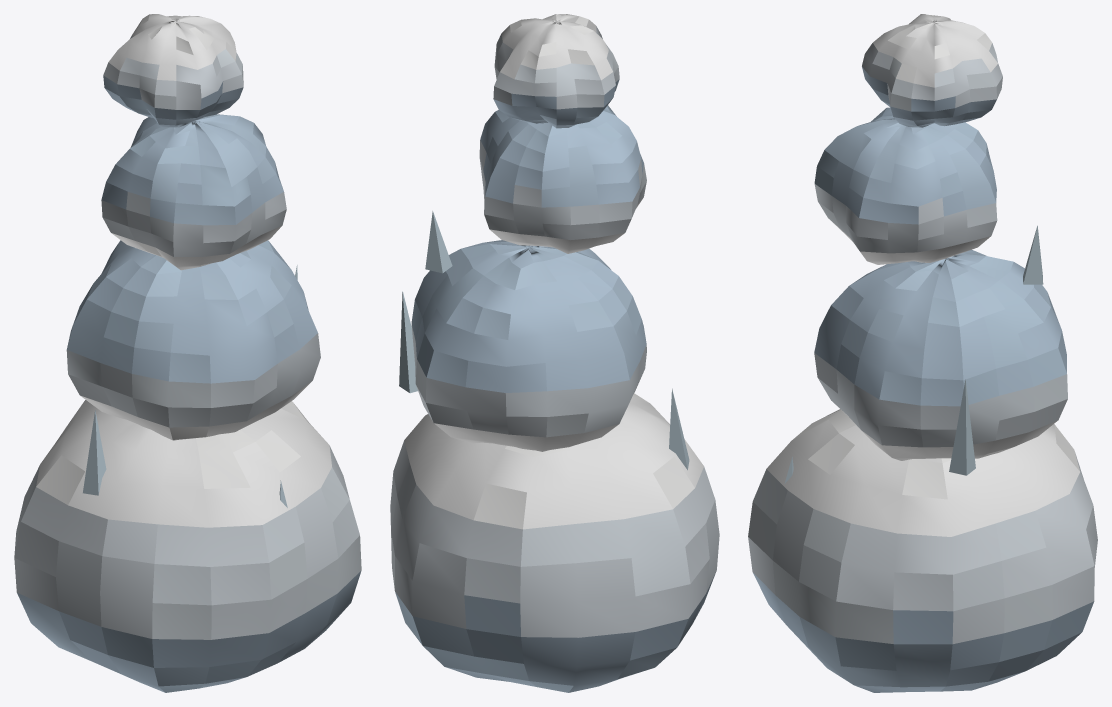
File: Snowdrift_Cairn.glb
3 views of the same model, side by side, from view 1: azimuth 30°, elevation 25°; view 2: azimuth 150°, elevation 25°; view 3: azimuth 270°, elevation 25° (orthographic).
Parts seen in each view (by area): view 1: Snowdrift_Cairn_Merged; view 2: Snowdrift_Cairn_Merged; view 3: Snowdrift_Cairn_Merged.
Part boxes in pixels (bbox=[...]): Snowdrift_Cairn_Merged: bbox=[14, 14, 361, 692]; Snowdrift_Cairn_Merged: bbox=[390, 14, 719, 692]; Snowdrift_Cairn_Merged: bbox=[748, 14, 1097, 692].
Bounding box in the file's own units: 0.9922 × 2.03 × 0.9915.
